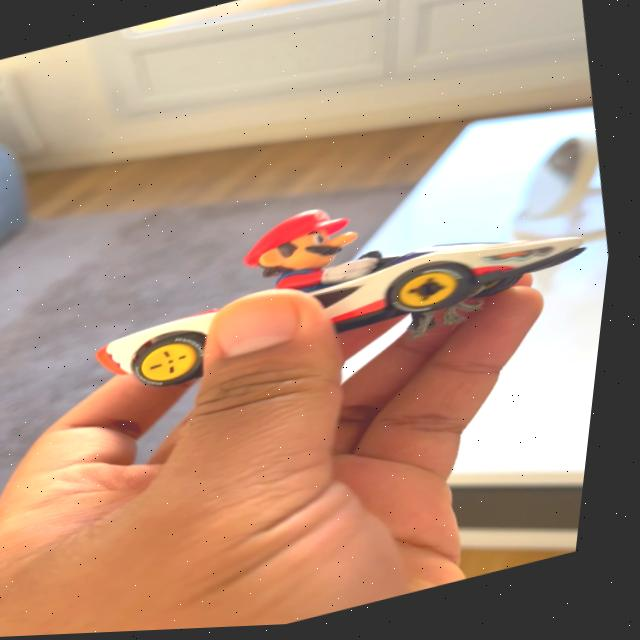mario: (81, 139, 613, 420)
